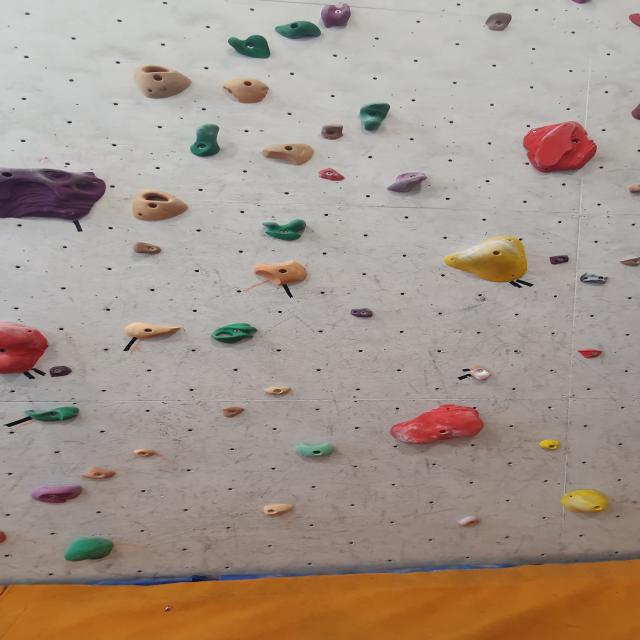Crimp: (0, 163, 107, 222), (262, 502, 297, 517), (129, 242, 164, 256), (317, 168, 346, 182), (218, 407, 246, 420), (574, 349, 604, 360), (536, 440, 561, 453), (349, 308, 375, 320), (264, 386, 295, 396), (457, 516, 482, 528), (548, 254, 572, 265), (618, 256, 640, 268)
Jug: (185, 122, 223, 158), (223, 35, 273, 60), (354, 101, 394, 131), (259, 218, 308, 242), (272, 20, 322, 42), (23, 407, 81, 424), (482, 10, 515, 32), (465, 364, 494, 380), (319, 123, 343, 141), (566, 0, 595, 6)
Pinch: (252, 261, 310, 287), (257, 144, 316, 166), (123, 322, 181, 340), (316, 2, 355, 28), (384, 172, 428, 194), (293, 444, 338, 459), (83, 466, 119, 481), (577, 274, 610, 286), (625, 12, 640, 28), (626, 183, 640, 194)
Pocket: (130, 63, 196, 101), (129, 188, 192, 222), (208, 323, 258, 343)
Sloper: (440, 237, 532, 284), (521, 120, 601, 173), (386, 404, 486, 446), (0, 321, 51, 375), (63, 537, 116, 563), (558, 490, 610, 516), (220, 78, 272, 104), (30, 484, 86, 505)
